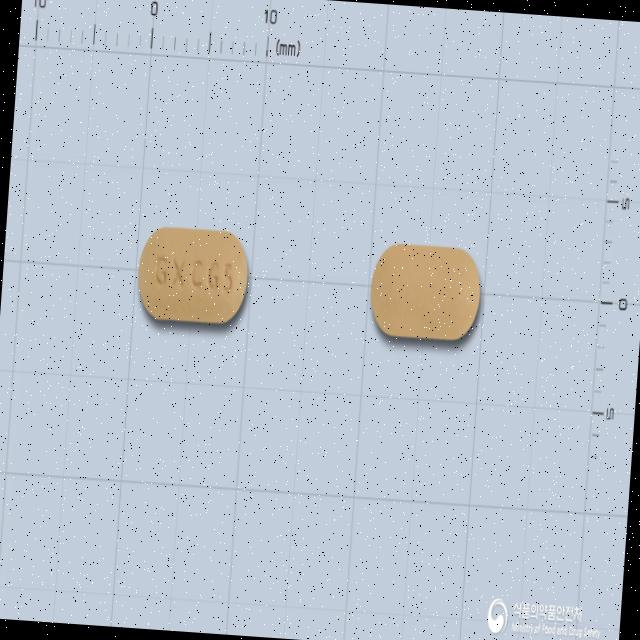Zeffix Tab: (134, 224, 252, 326), (368, 240, 485, 342)
